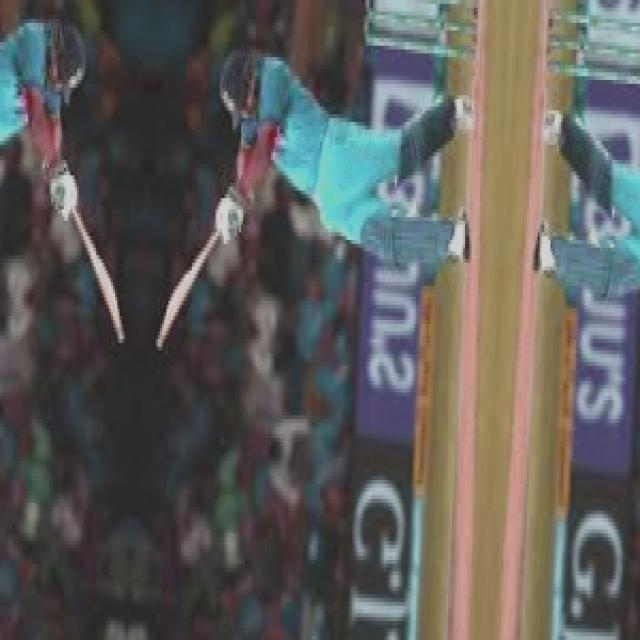toe: (149, 318, 174, 358)
